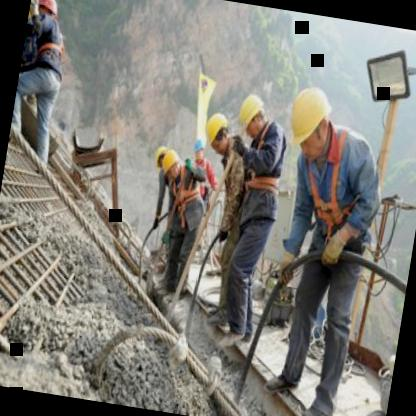helmet: (278, 78, 342, 166), (233, 89, 271, 144), (201, 110, 235, 155), (32, 0, 62, 35), (158, 146, 186, 182), (189, 134, 207, 162)
